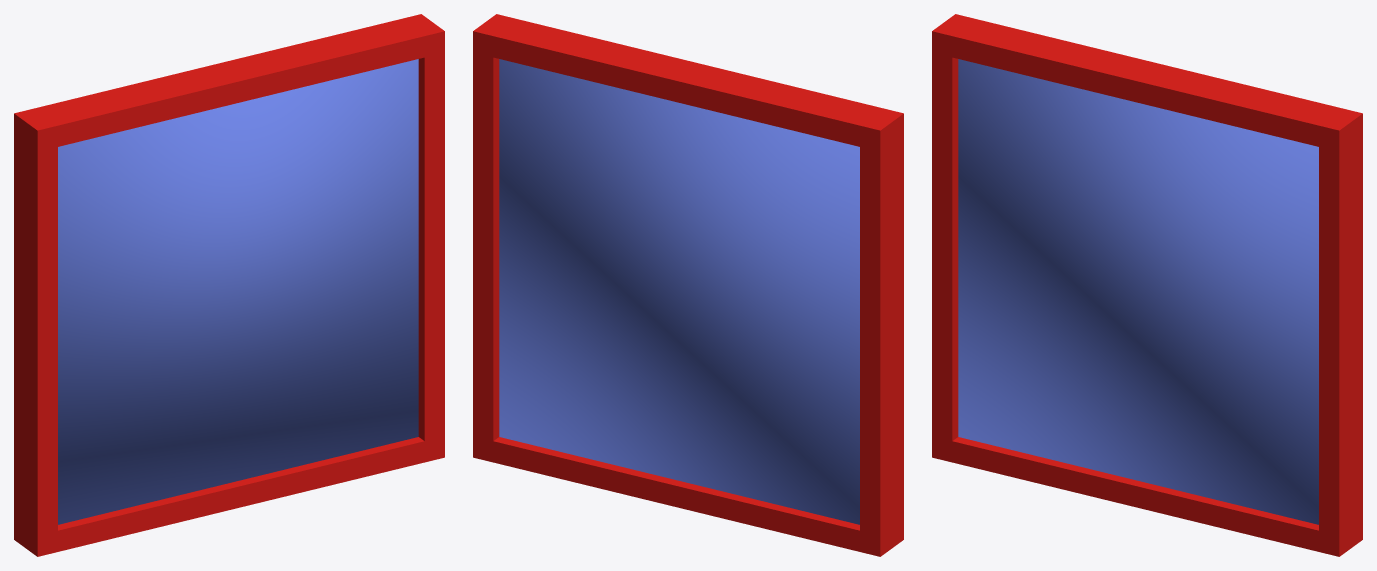
File: GlassWindow.fbx
3 views of the same model, side by side, from view 1: azimuth 30°, elevation 25°; view 2: azimuth 150°, elevation 25°; view 3: azimuth 330°, elevation 25° (orthographic).
Parts seen in each view (by area): view 1: Prop.Window.Pane, Prop.Window.Frame; view 2: Prop.Window.Pane, Prop.Window.Frame; view 3: Prop.Window.Pane, Prop.Window.Frame.
Boxes of the visible parts, x1=… form: Prop.Window.Pane: x1=58, y1=59, x2=418, y2=524; Prop.Window.Frame: x1=14, y1=14, x2=444, y2=556; Prop.Window.Pane: x1=499, y1=59, x2=859, y2=524; Prop.Window.Frame: x1=473, y1=14, x2=903, y2=556; Prop.Window.Pane: x1=958, y1=59, x2=1318, y2=524; Prop.Window.Frame: x1=932, y1=14, x2=1362, y2=556.
Bounding box in the file's own units: 400 × 400 × 40.
